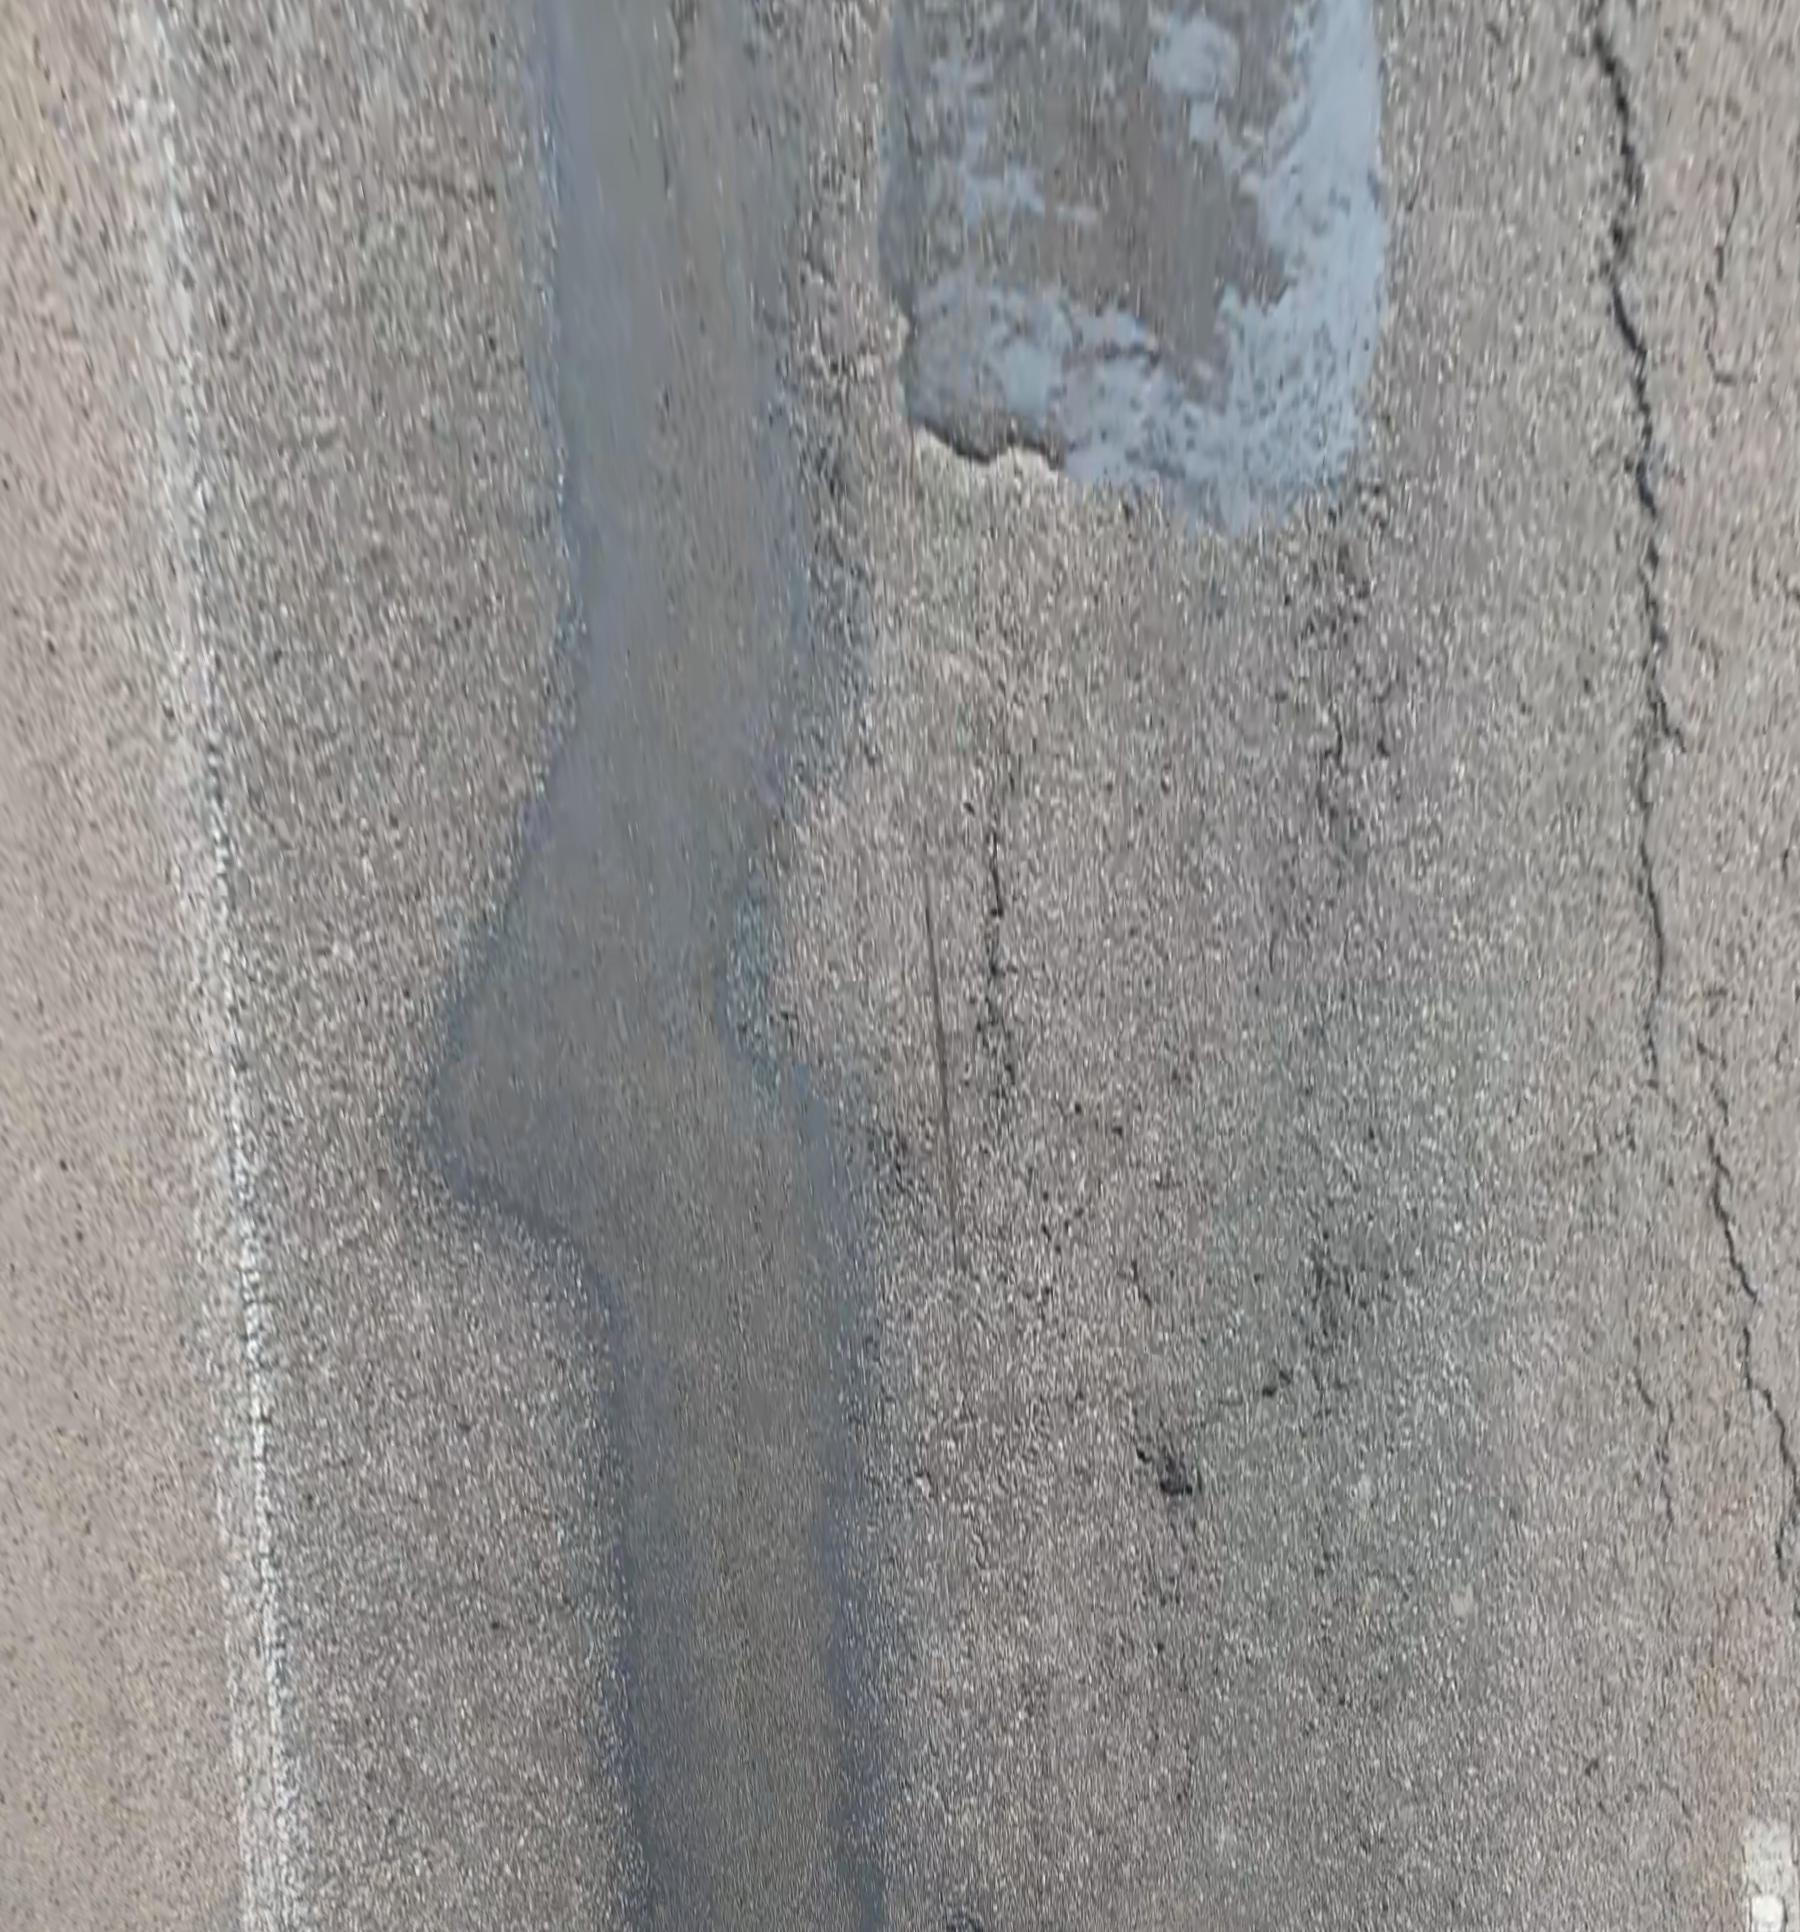pothole_patch_good: (430, 0, 880, 1932), (881, 0, 1387, 528)
